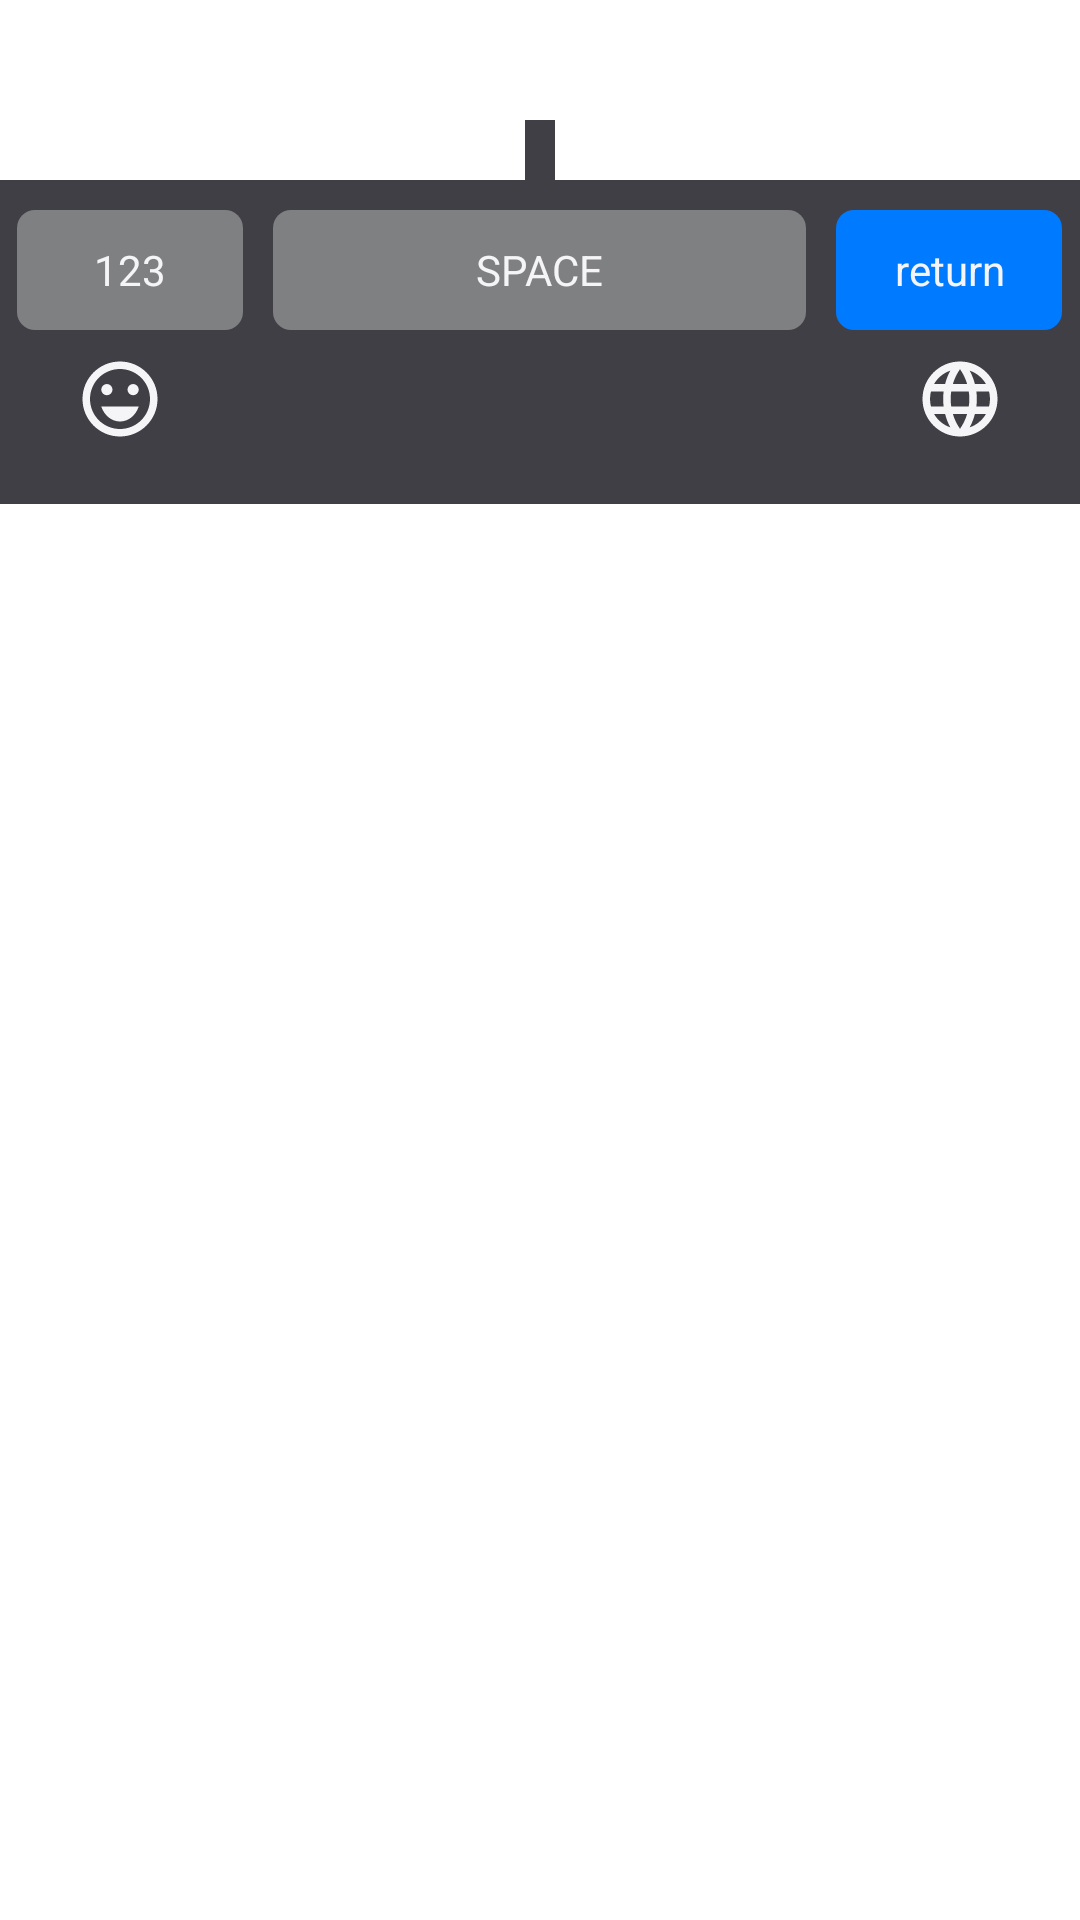

Named icons in this screenshot (1080 × 1920) and their centers, (x,y):
imojiicon: (120,399)
languageicon: (960,399)
